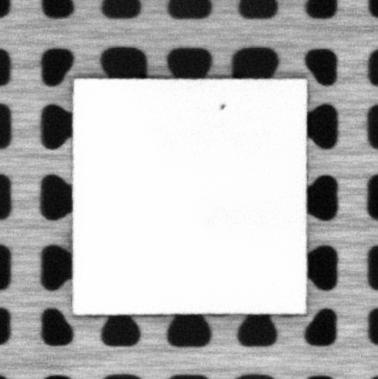DIE_INK: (218, 101, 228, 110)
